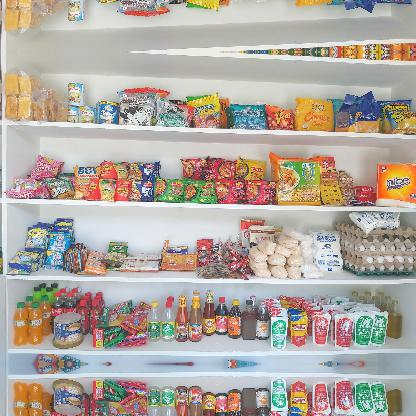Lady-s-Choice: (52, 310, 84, 350), (51, 378, 85, 415)
